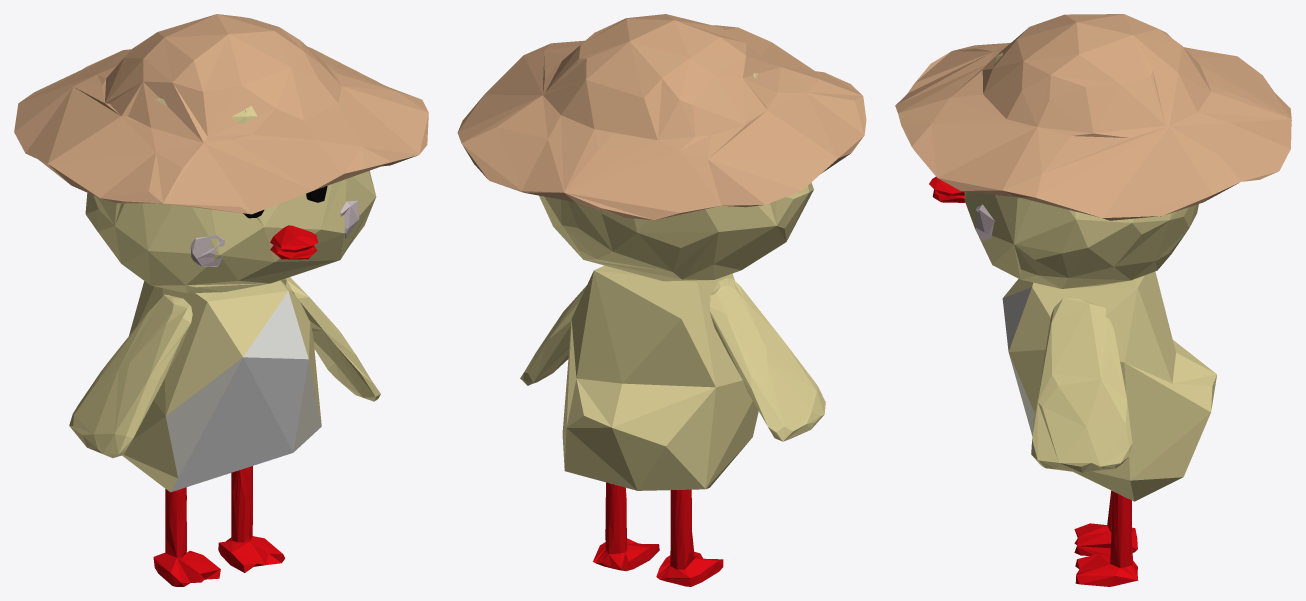
The model's file is duck.obj.
The picture shows the model from 3 angles, left to right: view 1: azimuth 30°, elevation 25°; view 2: azimuth 150°, elevation 25°; view 3: azimuth 270°, elevation 25°; orthographic projection.
Parts seen in each view (by area): view 1: duck; view 2: duck; view 3: duck.
Part boxes in pixels (x1,y1,x2,y2): duck: (14,14,428,586); duck: (457,14,866,586); duck: (895,14,1291,586).
Bounding box in the file's own units: 7.49 × 11 × 7.36.
